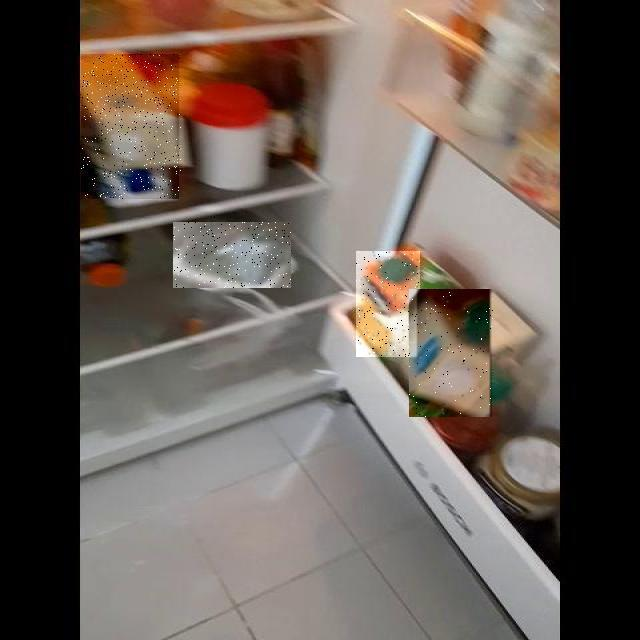broccoli: (28, 144, 318, 432)
milk: (163, 208, 640, 626), (0, 100, 173, 298)
